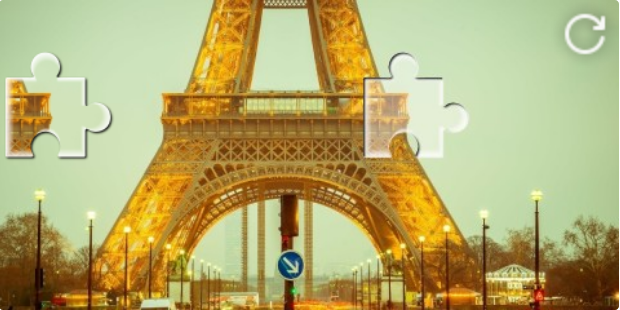target: (364, 53, 469, 159)
